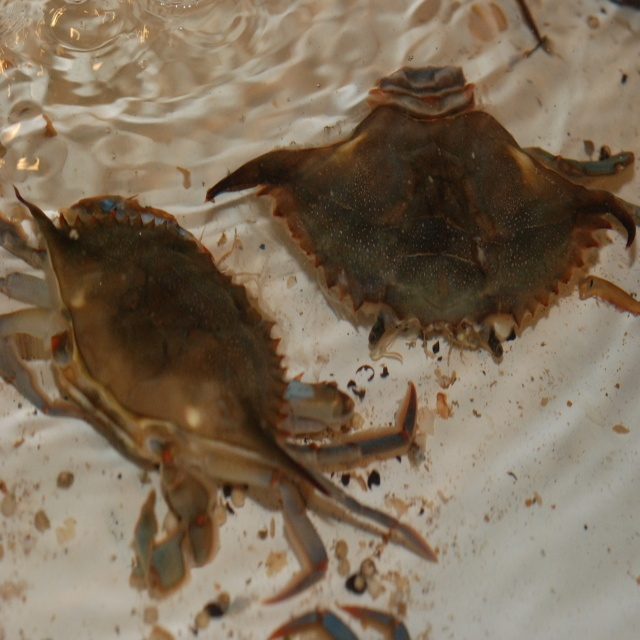Crab: (0, 180, 439, 606), (206, 60, 640, 360), (265, 599, 411, 638)
